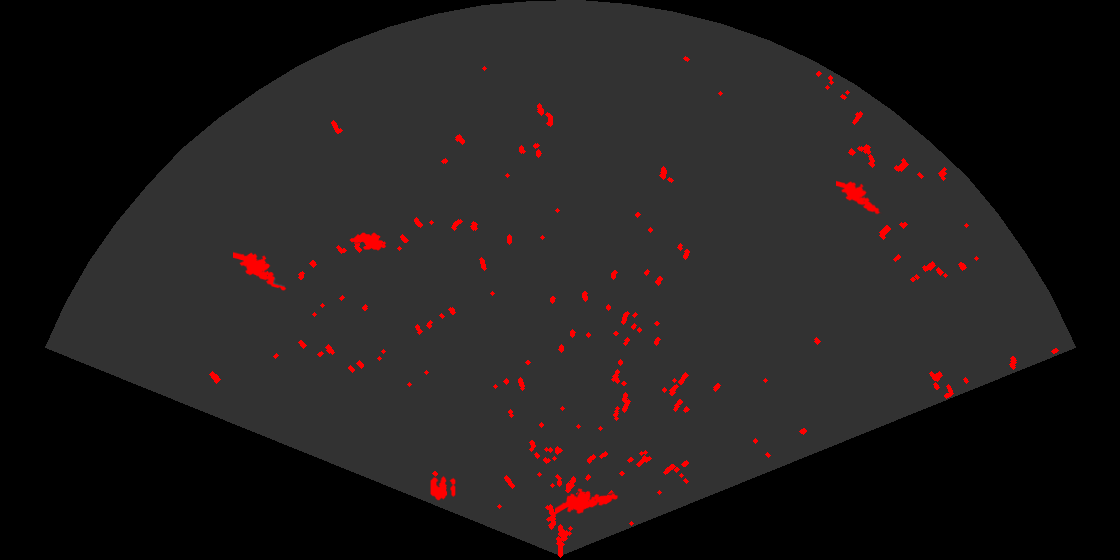AUV: (348, 231, 388, 252)
ball: (429, 474, 457, 502)
frogman: (233, 250, 288, 292), (555, 487, 620, 516), (836, 179, 883, 216)
